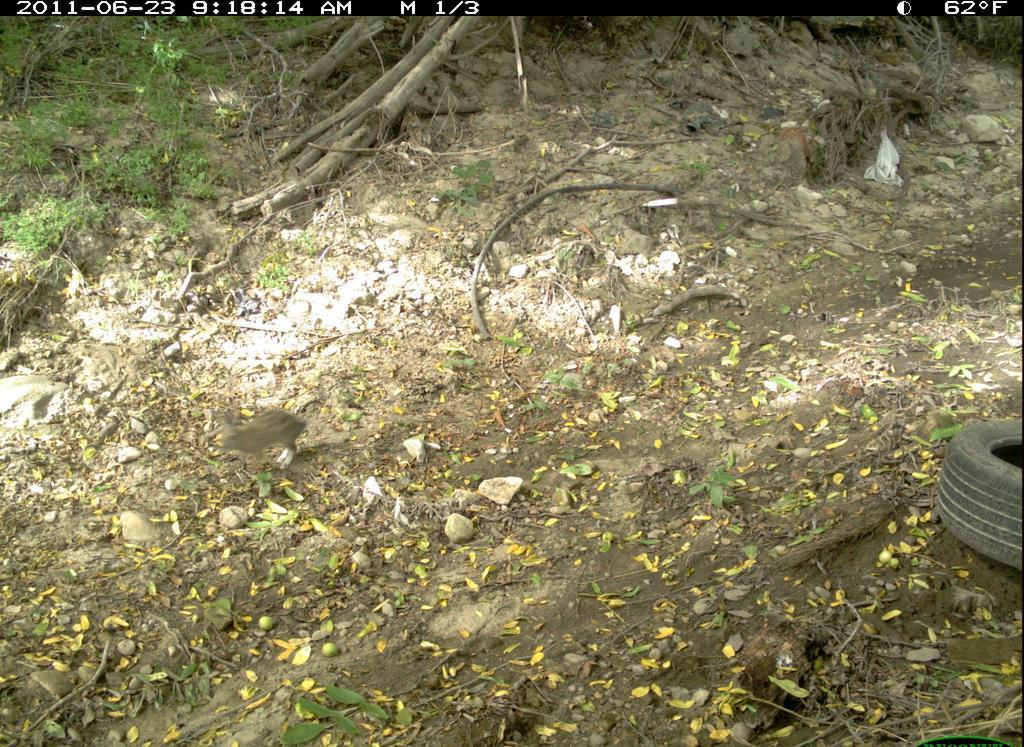rabbit: (207, 396, 315, 474)
